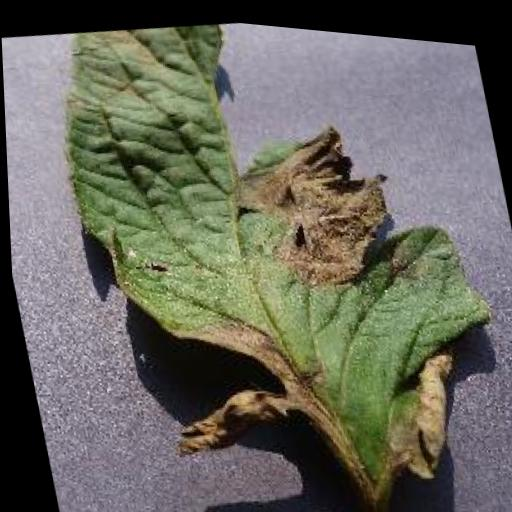Late Blight: (37, 3, 512, 512)
